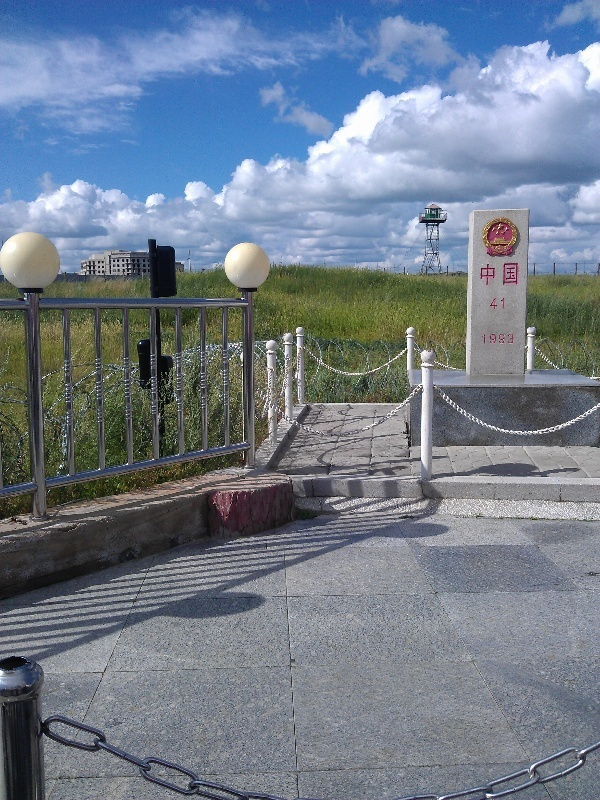text: (481, 263, 496, 287), (497, 263, 512, 287), (481, 332, 496, 346), (497, 332, 512, 346), (513, 263, 520, 287), (497, 297, 506, 310), (489, 297, 496, 310), (513, 332, 515, 346)
